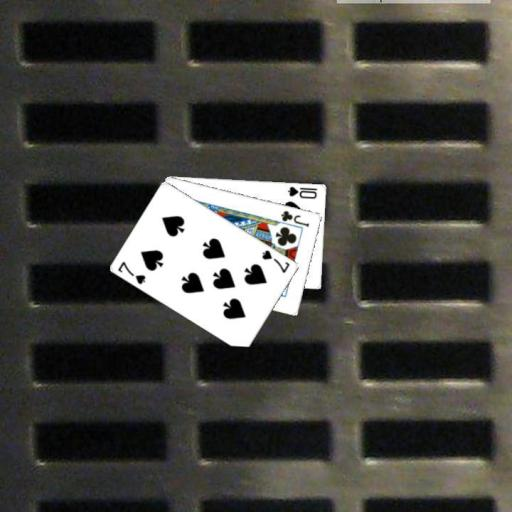10S: (285, 183, 319, 200)
7S: (115, 258, 147, 286), (259, 247, 291, 274)
JC: (278, 207, 311, 228)
